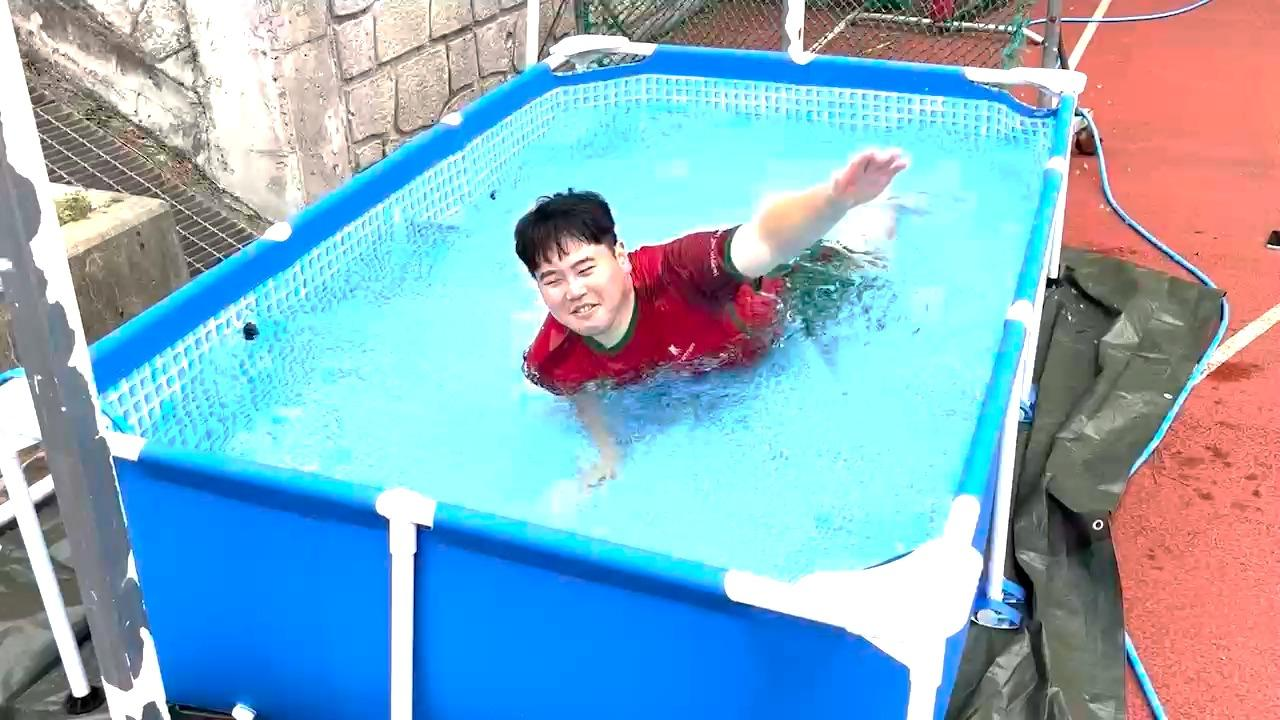Swimming: (447, 103, 964, 504)
